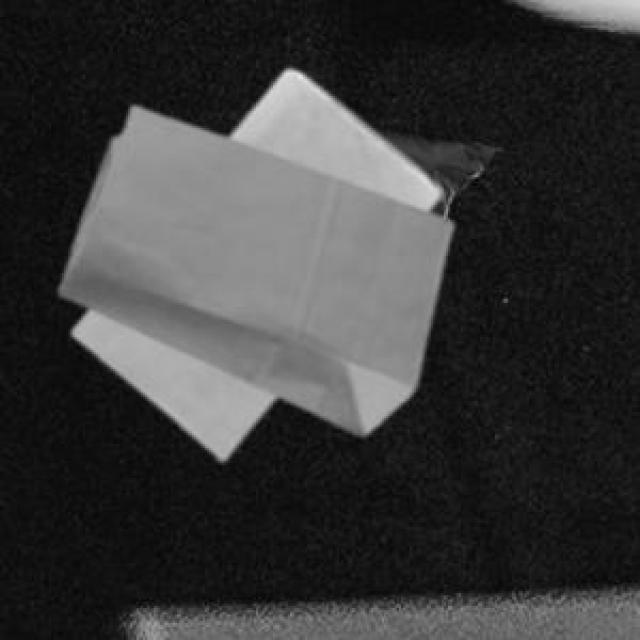miscellaneous trash: (362, 120, 495, 216)
paper: (70, 66, 435, 454), (56, 102, 448, 431)
